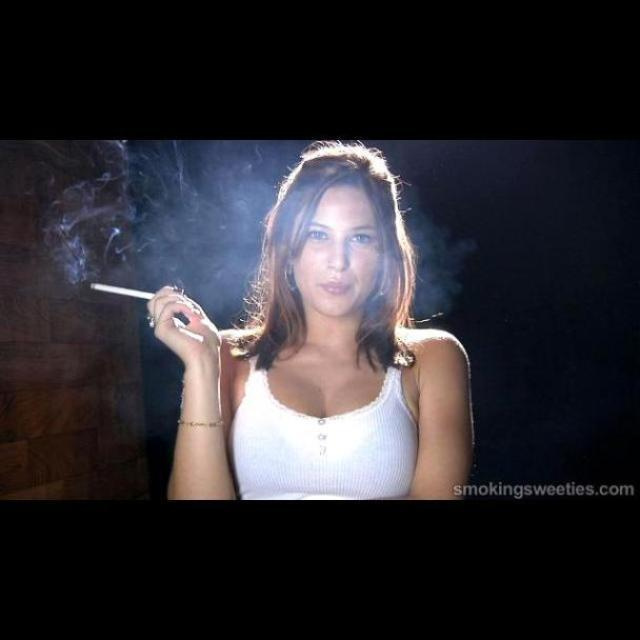rokok: (86, 276, 154, 306)
